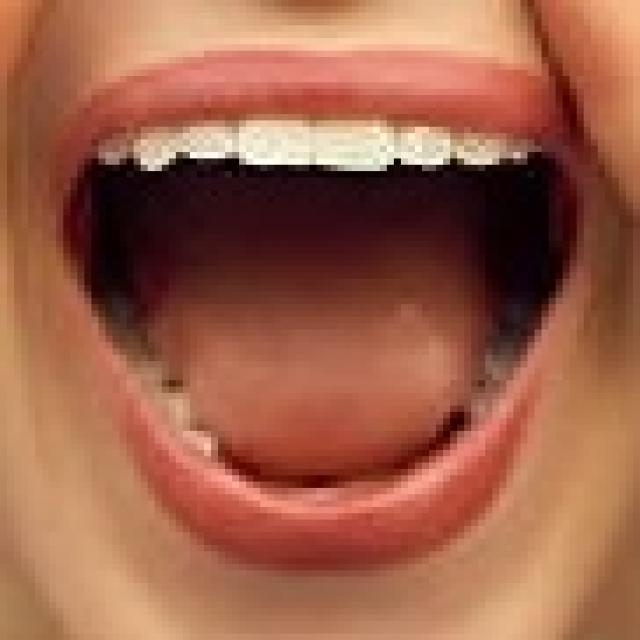open-mouth: (49, 38, 591, 570)
